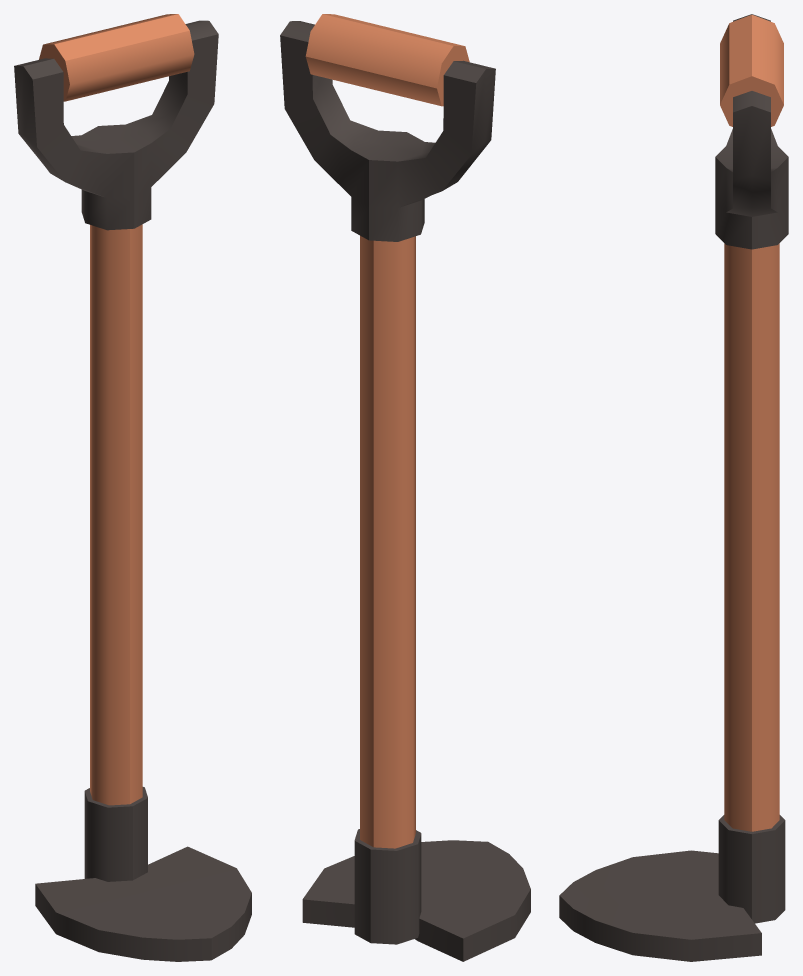
File: enchada.fbx
The picture shows the model from 3 angles, left to right: view 1: azimuth 30°, elevation 25°; view 2: azimuth 150°, elevation 25°; view 3: azimuth 270°, elevation 25°; orthographic projection. The views are drawn at different scales.
Visible parts, largest first — view 1: enchada; view 2: enchada; view 3: enchada.
Part boxes in pixels (left/top/right/bottom): enchada: left=14, top=14, right=251, bottom=961; enchada: left=280, top=14, right=530, bottom=961; enchada: left=559, top=14, right=788, bottom=961.
Size of the model in its own units: 61.92 by 274 by 65.24.
